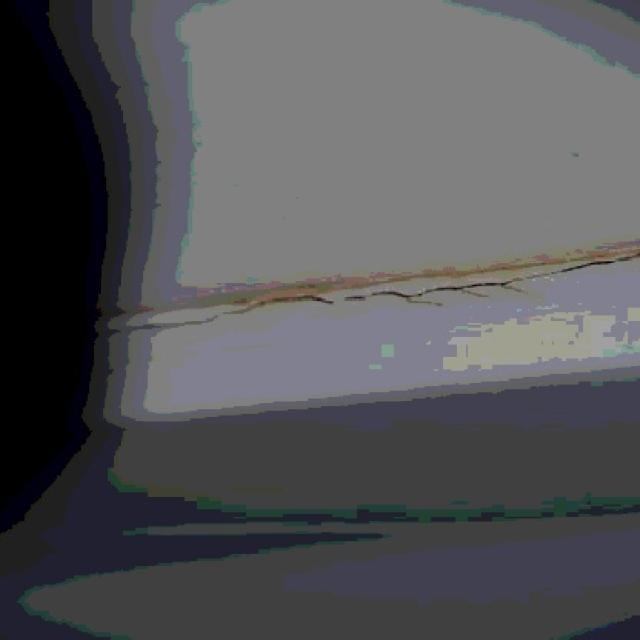crack: (140, 292, 337, 328), (509, 254, 637, 285), (342, 282, 504, 302)
